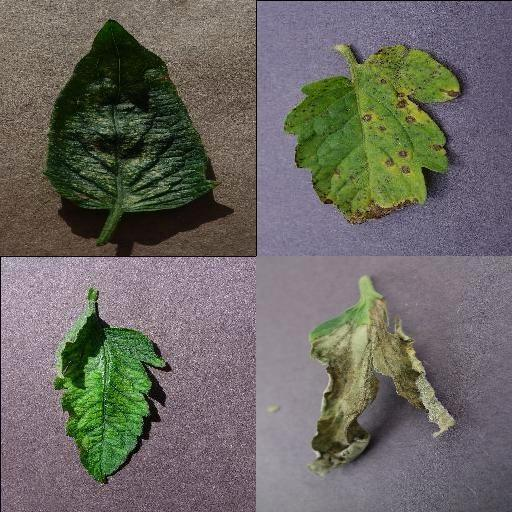Late Blight: (308, 302, 456, 478)
Mosaic Virus: (49, 312, 165, 486)
Septoria: (283, 44, 462, 226)
Spider Mites: (46, 19, 216, 213)
